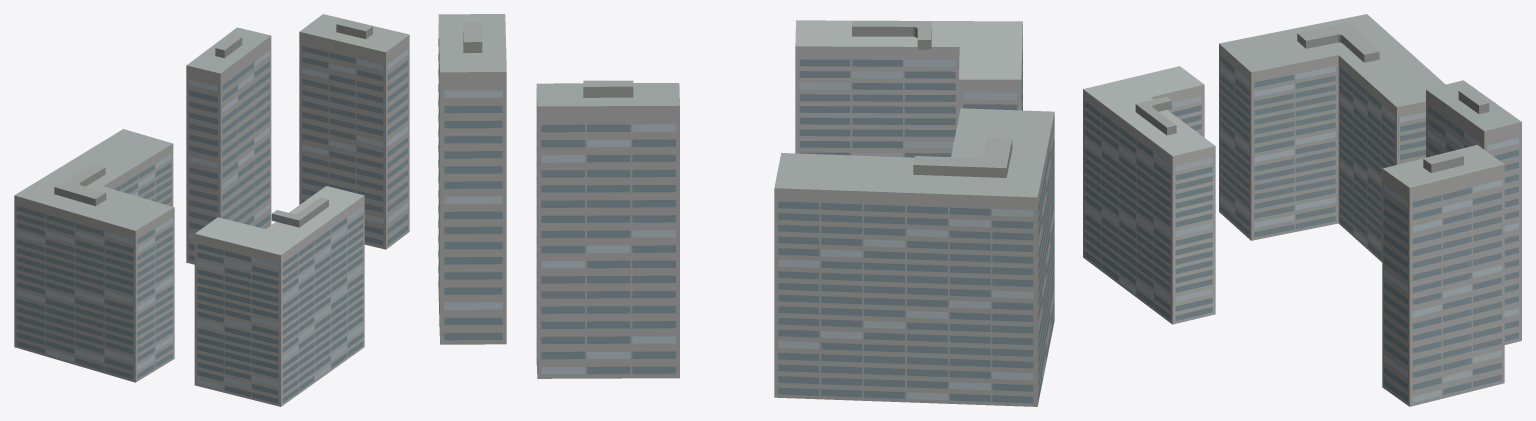
The model's file is apt-a14272310.glb.
3 renders of one model, left to right at view 1: azimuth 30°, elevation 25°; view 2: azimuth 150°, elevation 25°; view 3: azimuth 270°, elevation 25°, orthographic. The views are drawn at different scales.
Visible parts, largest first — view 1: apt-a14272310; view 2: apt-a14272310; view 3: apt-a14272310.
Boxes of the visible parts, x1,y1,x2,y2 form: apt-a14272310: (14, 14, 409, 406); apt-a14272310: (438, 14, 1054, 406); apt-a14272310: (1083, 14, 1521, 406).
Size of the model in its own units: 131 by 62 by 108.
